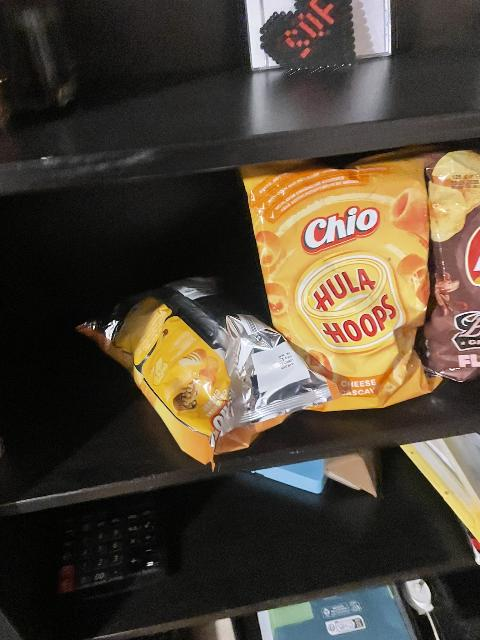Chio Cascaval 125g: (83, 288, 316, 469)
Chio Hula Hoops Cheese 70g: (235, 146, 439, 412)
Lays Beef Grilled Ribs 125g: (417, 151, 478, 373)
